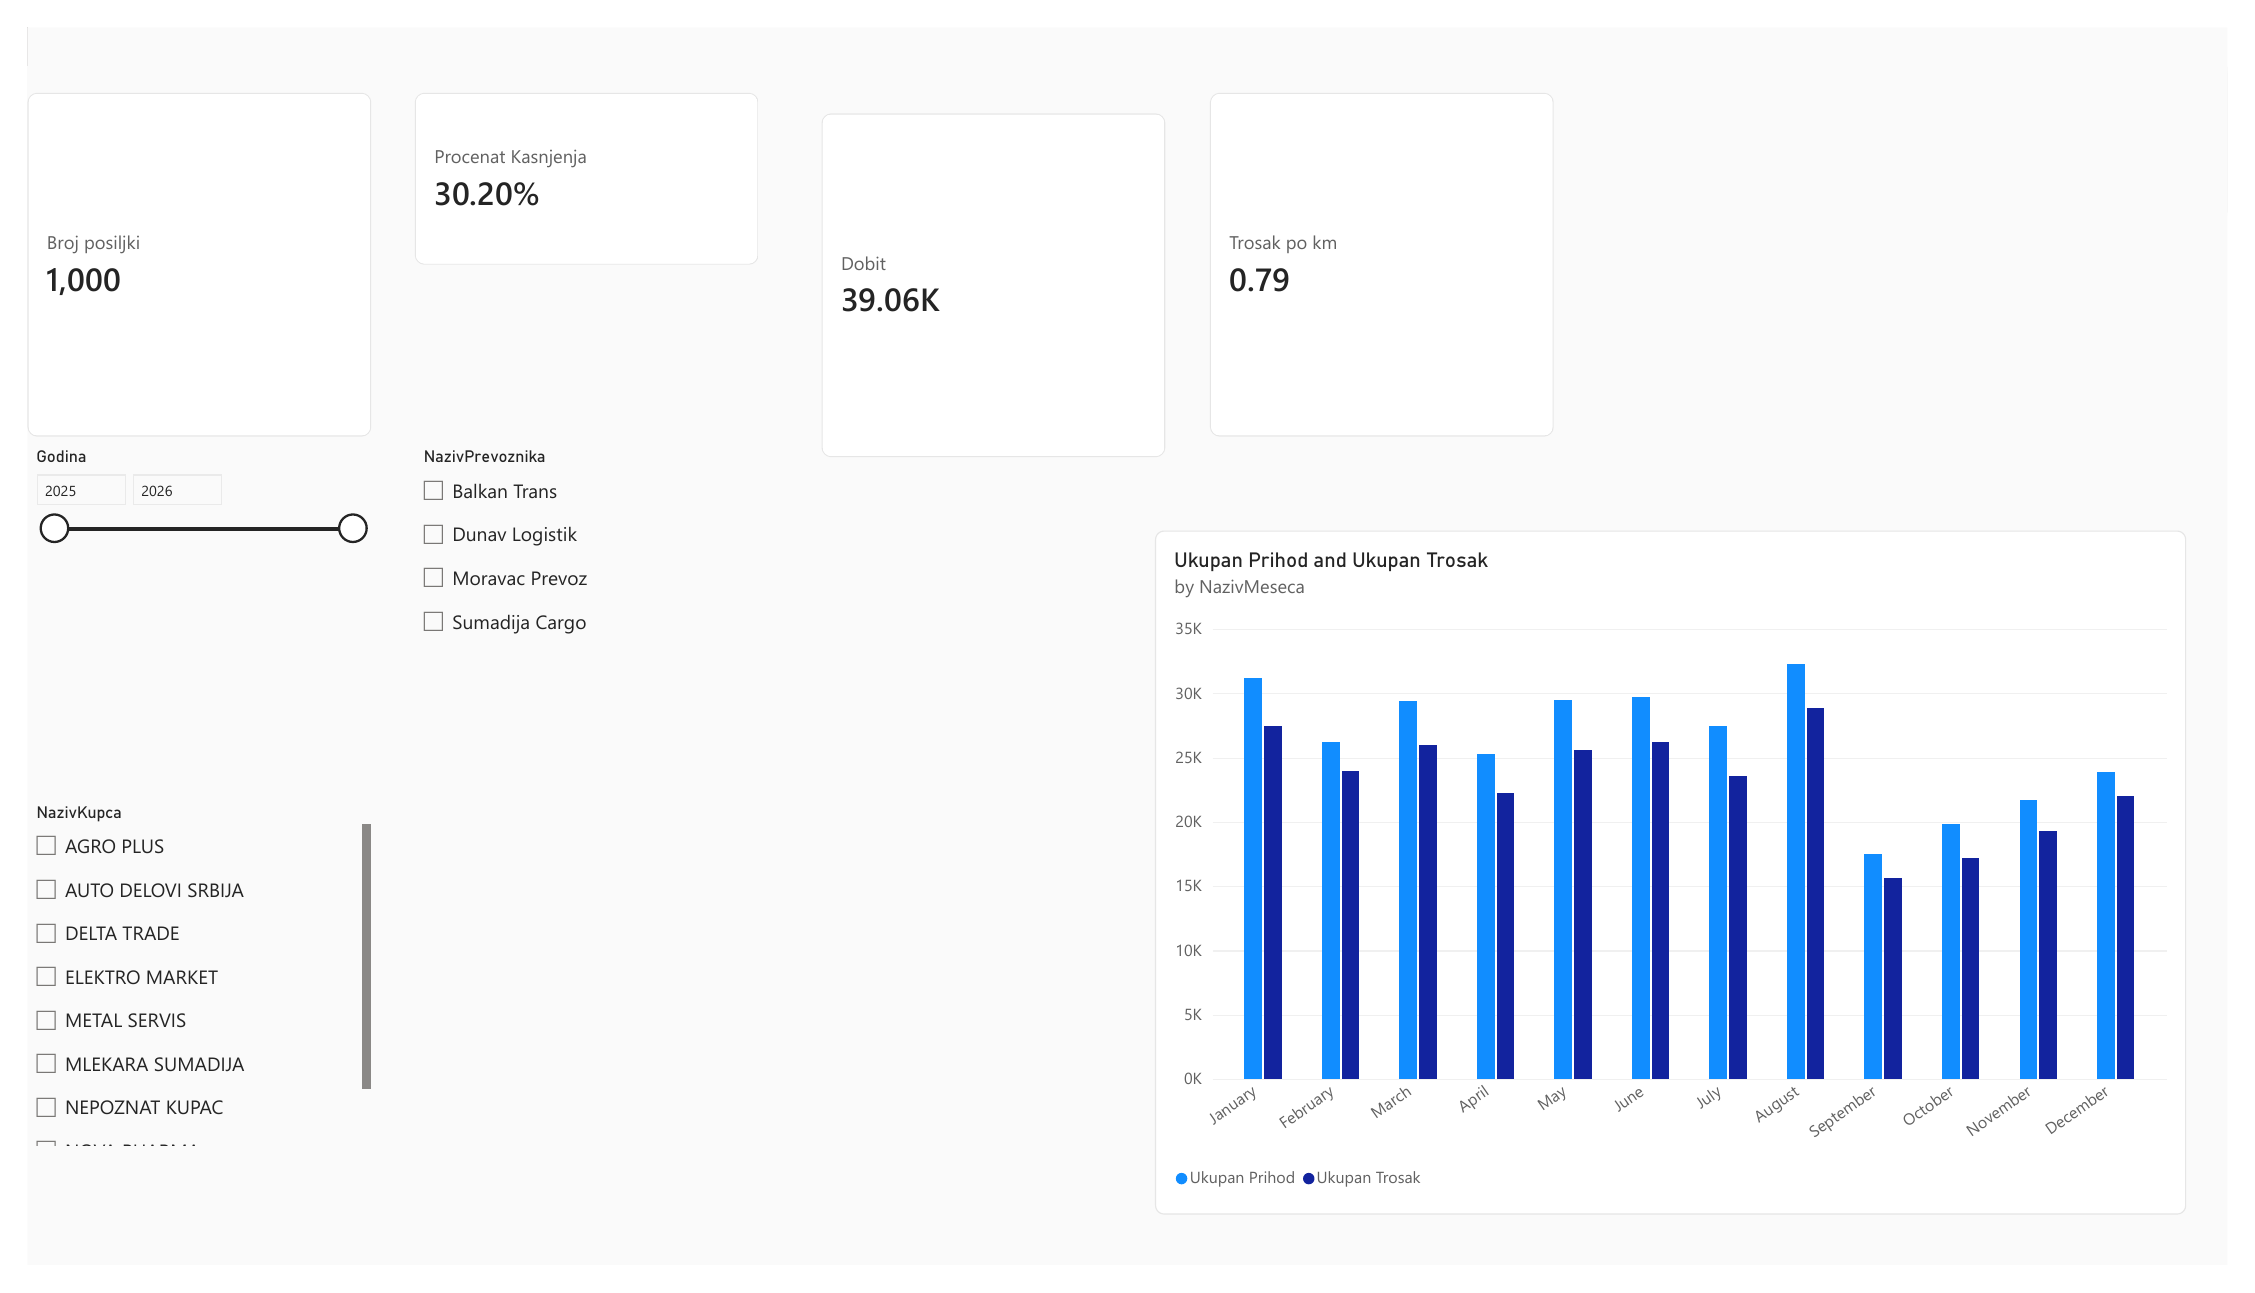

The page's visual inventory and layout, read from the dashboard file:
{"tool":"powerbi","page":{"name":"Menadzerski","canvas":[1920,1080],"ordinal":2},"visuals":[{"type":"cardVisual","fields":{"Data":["fact_Posiljke.Broj Posiljki Prikaz"]},"box":[0,57.1,300,300],"z":0},{"type":"cardVisual","fields":{"Data":["fact_Posiljke.Procenat Kasnjenja"]},"box":[337.5,57.1,300,150],"z":1},{"type":"cardVisual","fields":{"Data":["fact_Posiljke.Dobit"]},"box":[692.9,75,300,300],"z":2},{"type":"cardVisual","fields":{"Data":["fact_Posiljke.Trosak po km"]},"box":[1032.1,57.1,300,300],"z":3},{"type":"slicer","fields":{"Values":["dim_Datum.Godina"]},"box":[0,367,300,300],"z":4},{"type":"slicer","fields":{"Values":["dim_Kupac.NazivKupca"]},"box":[0,677,300,300],"z":5},{"type":"slicer","fields":{"Values":["dim_Prevoznik.NazivPrevoznika"]},"box":[338,367,300,300],"z":6},{"type":"clusteredColumnChart","fields":{"Category":["dim_Datum.NazivMeseca"],"Y":["fact_Posiljke.Ukupan Prihod","fact_Posiljke.Ukupan Trosak"]},"box":[983.9,439.3,900,596.4],"z":7}]}

Visuals, with their boxes in screenshot pixels (x1, y1, x2, y2), scaled from the page's 1920x1080 canvas onto the 2255x1293 screenshot:
cardVisual - fact_Posiljke.Broj Posiljki Prikaz: select_region(0, 68, 352, 428)
cardVisual - fact_Posiljke.Procenat Kasnjenja: select_region(396, 68, 749, 248)
cardVisual - fact_Posiljke.Dobit: select_region(814, 90, 1166, 449)
cardVisual - fact_Posiljke.Trosak po km: select_region(1212, 68, 1565, 428)
slicer - dim_Datum.Godina: select_region(0, 439, 352, 799)
slicer - dim_Kupac.NazivKupca: select_region(0, 811, 352, 1170)
slicer - dim_Prevoznik.NazivPrevoznika: select_region(397, 439, 749, 799)
clusteredColumnChart - dim_Datum.NazivMeseca x fact_Posiljke.Ukupan Prihod: select_region(1156, 526, 2213, 1240)
